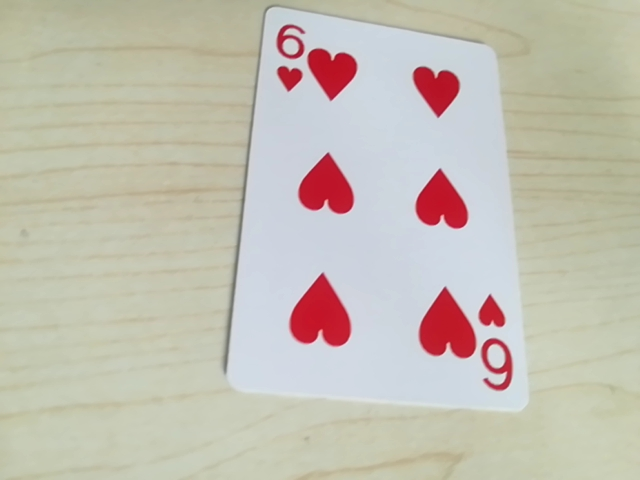hx 6: (267, 13, 315, 91), (470, 319, 516, 397)
